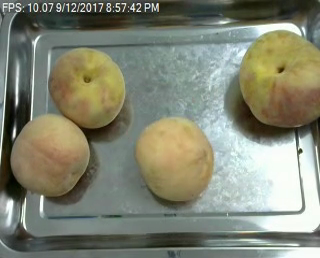Peach: (238, 28, 320, 128), (136, 115, 214, 203), (10, 113, 90, 197), (48, 46, 126, 129)
